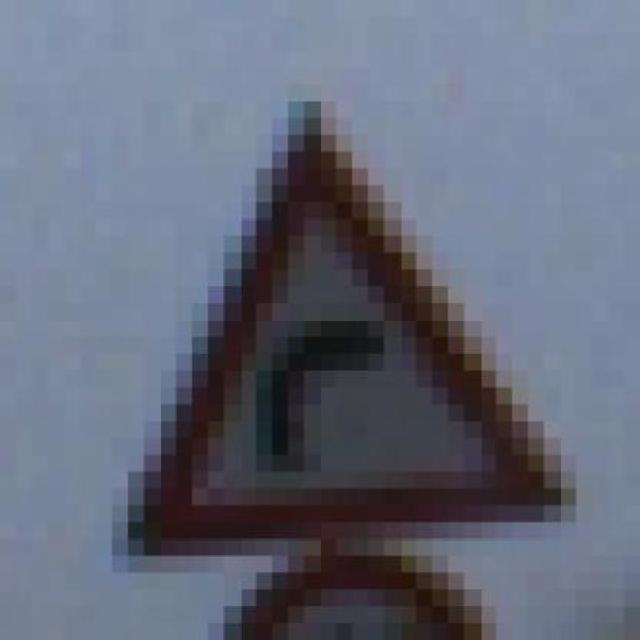Dangerous Rright Curve Ahead: (112, 101, 576, 573)
